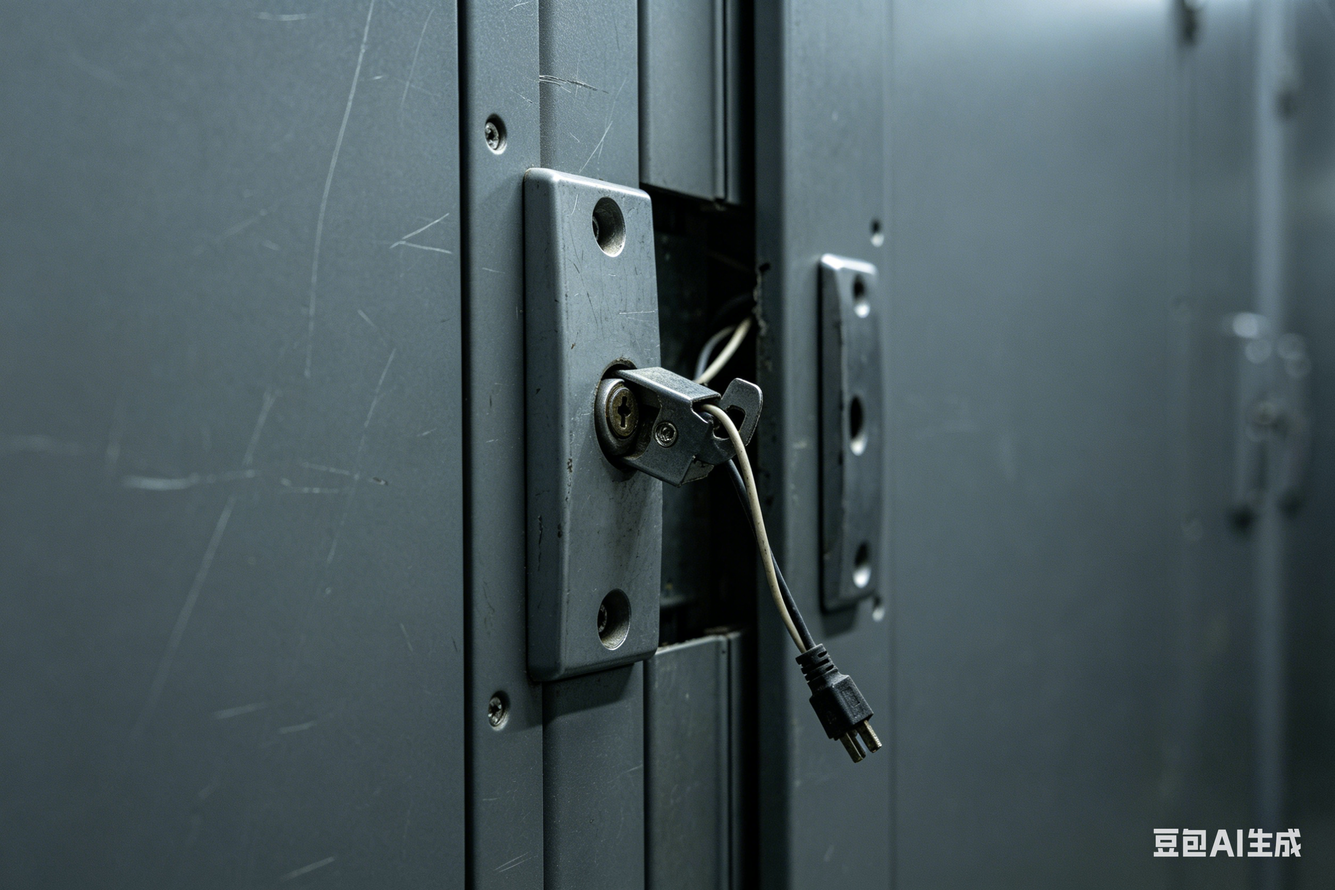BadLock: (602, 361, 778, 526)
